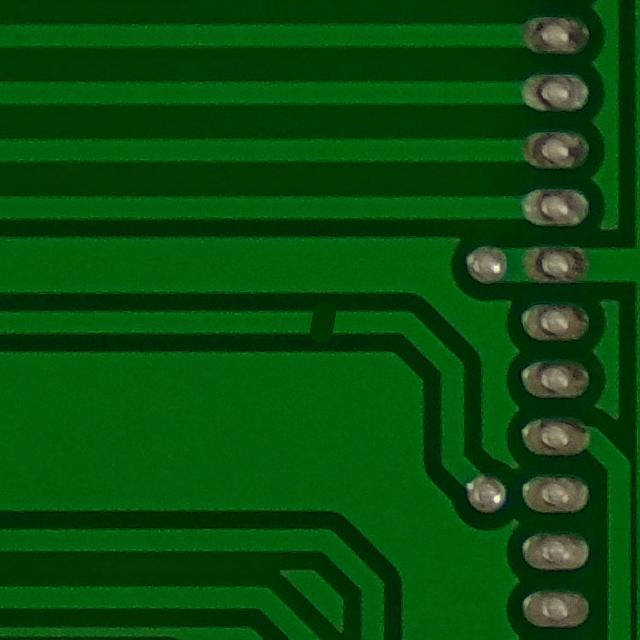open_circuit: (294, 299, 347, 342)
